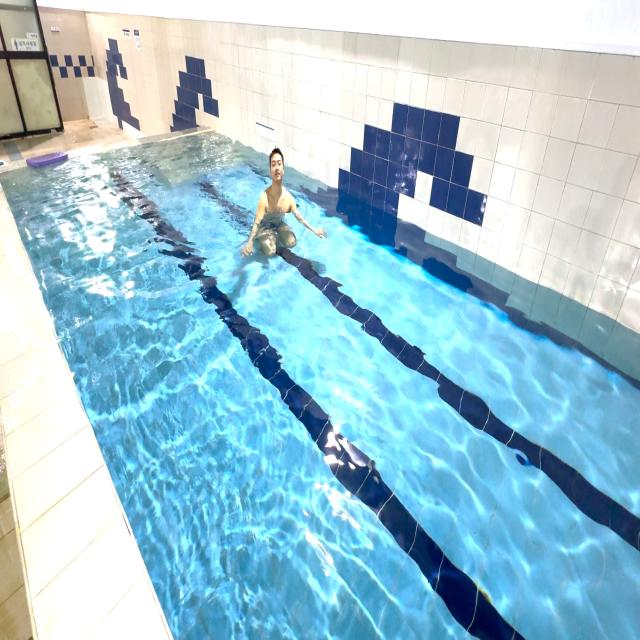Swimming: (238, 136, 329, 270)
